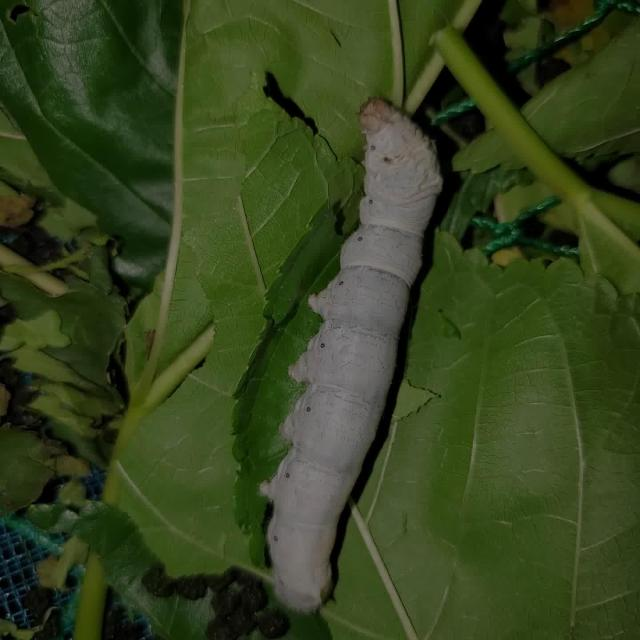Healthy: (228, 70, 492, 625)
